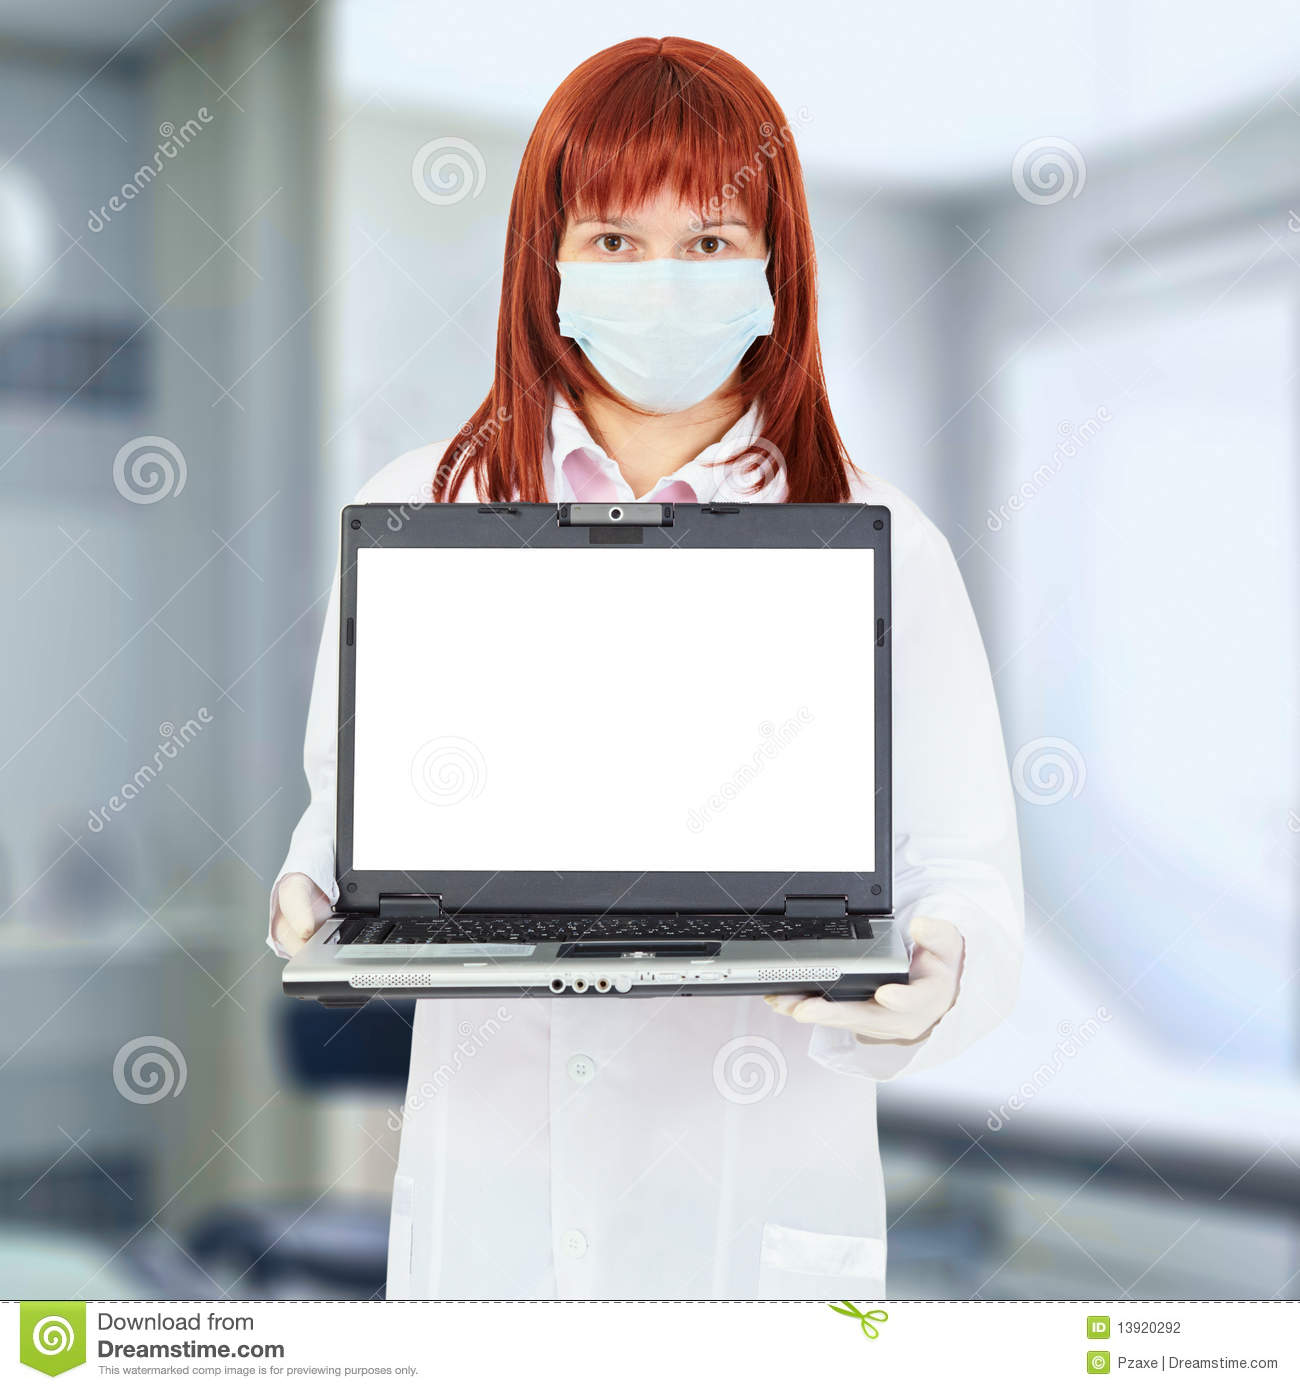mask: (556, 257, 794, 424)
